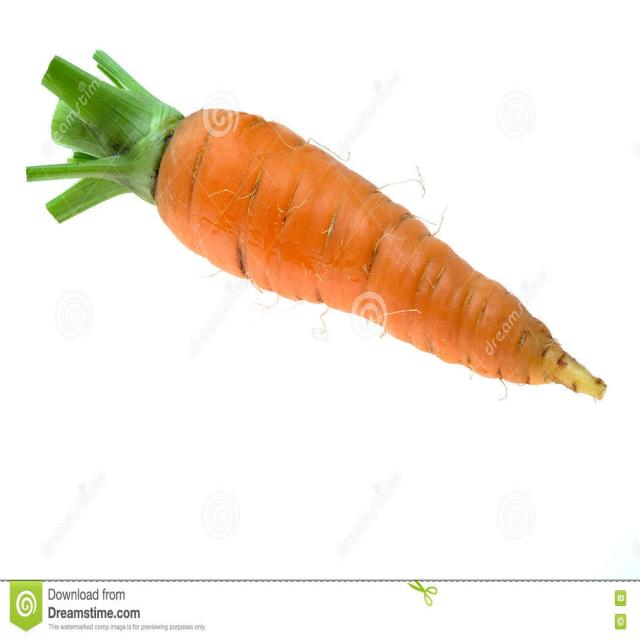Carrot: (31, 57, 606, 400)
